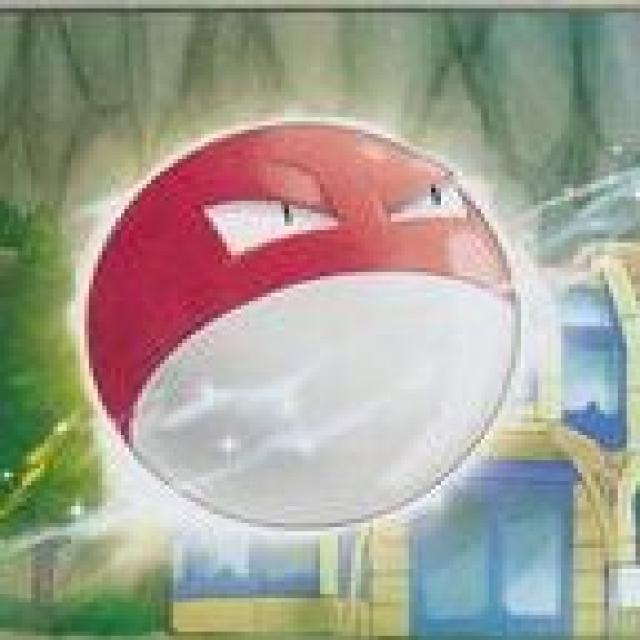Voltorb: (81, 119, 520, 534)
